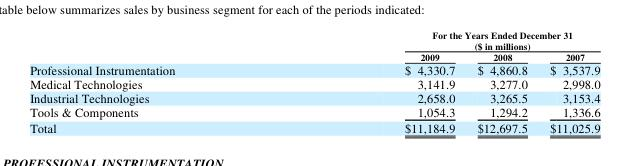table: (29, 29, 599, 134)
table column: (29, 29, 289, 134), (289, 29, 465, 134), (465, 29, 538, 134), (538, 29, 599, 134)
table column header: (29, 29, 599, 62)
table row: (29, 29, 599, 50), (29, 104, 599, 119), (29, 119, 599, 134), (29, 62, 599, 76), (29, 76, 599, 90), (29, 90, 599, 104), (29, 50, 599, 62)
table spanning cell: (289, 29, 599, 50)
